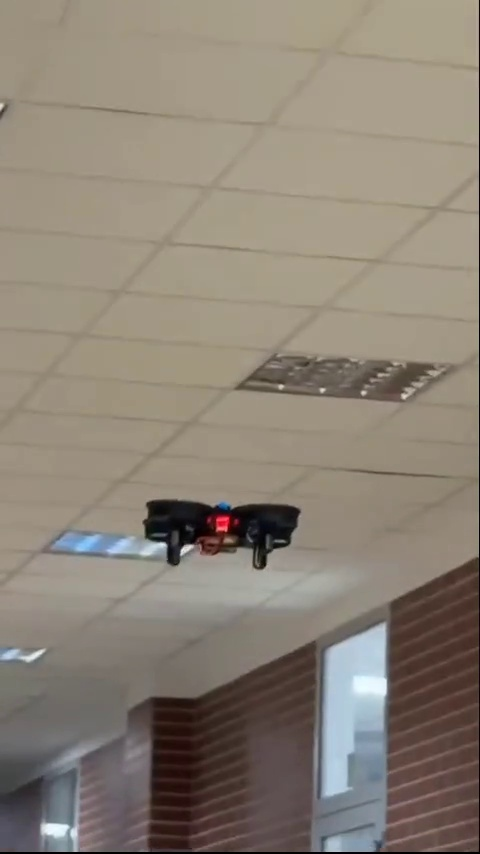drone: (140, 497, 297, 572)
